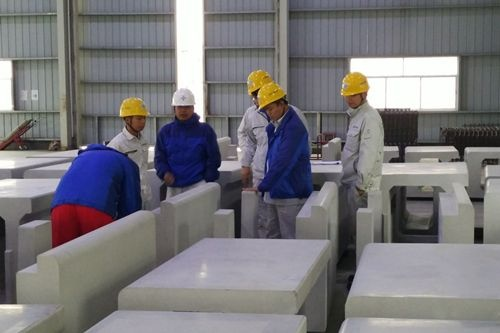white: (170, 88, 196, 122)
yellow: (118, 96, 150, 134), (256, 82, 287, 120), (339, 70, 368, 108)
